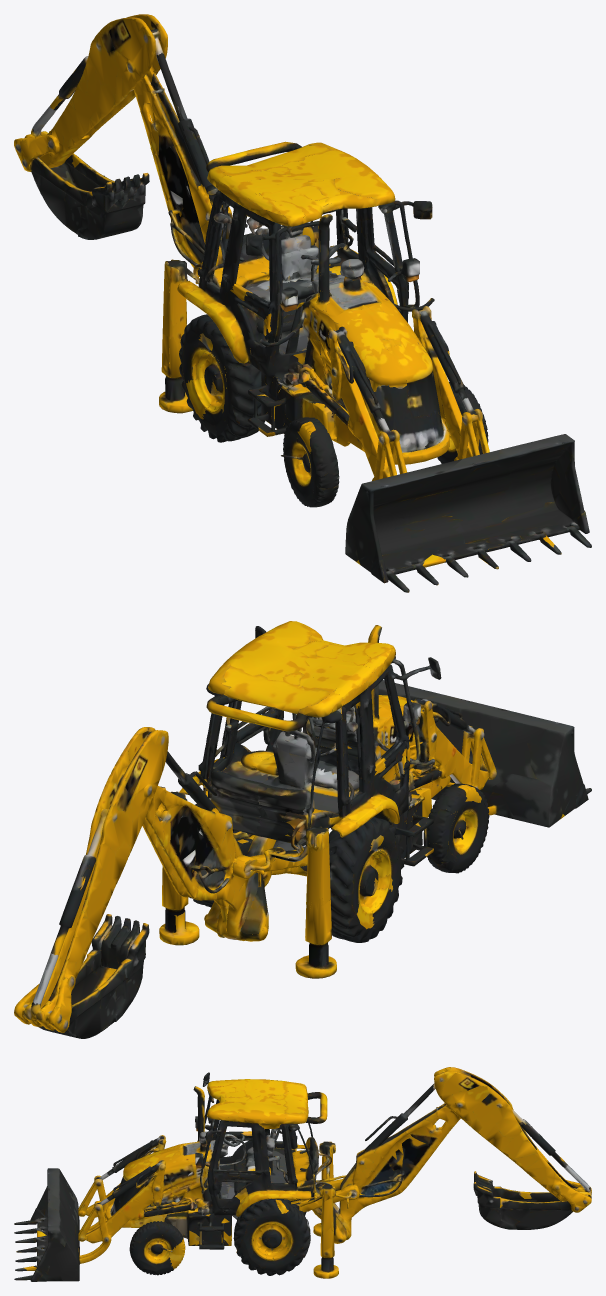
Rendered from bull1.glb.
3 views of the same model, one above another, from view 1: azimuth 30°, elevation 25°; view 2: azimuth 150°, elevation 25°; view 3: azimuth 270°, elevation 25° (orthographic). The views are drawn at different scales.
Visible parts, largest first — view 1: Bulldozer, Loader; view 2: Bulldozer, Loader; view 3: Bulldozer, Loader.
Part boxes in pixels (bbox=[...]): Bulldozer: bbox=[14, 14, 488, 507]; Loader: bbox=[328, 306, 591, 592]; Bulldozer: bbox=[14, 621, 489, 1038]; Loader: bbox=[378, 680, 591, 827]; Bulldozer: bbox=[113, 1067, 591, 1278]; Loader: bbox=[14, 1135, 165, 1281].
Size of the model in its own units: 1.57 by 2.13 by 6.08.
Materials: 1 (1 with a texture image).
